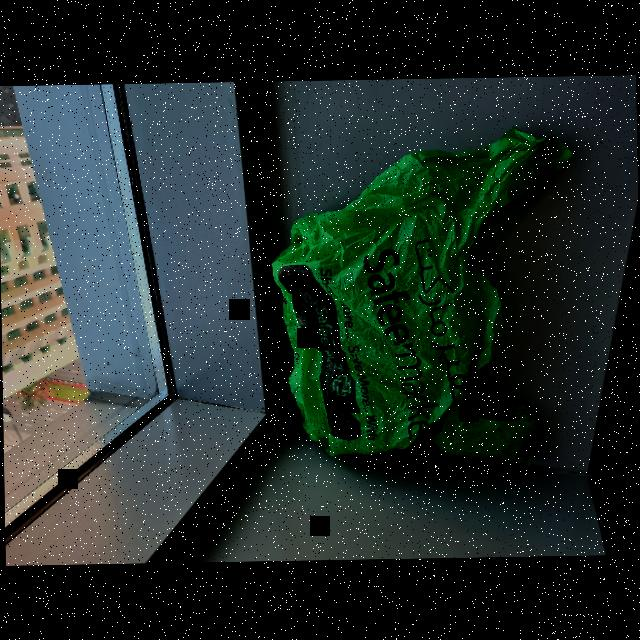plastic_bag: (268, 132, 556, 469)
